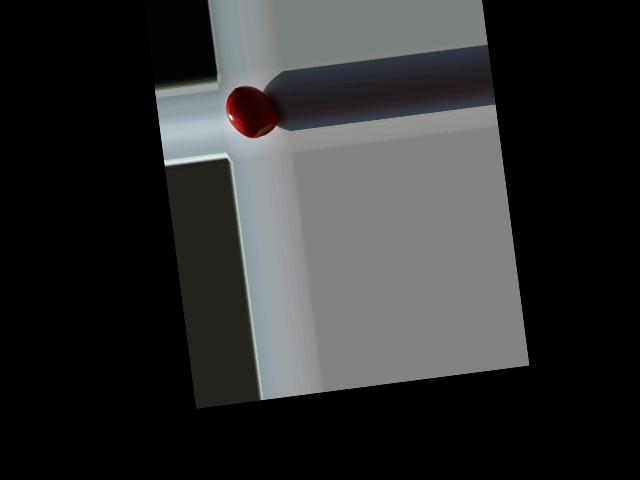tomato: (223, 82, 280, 140)
